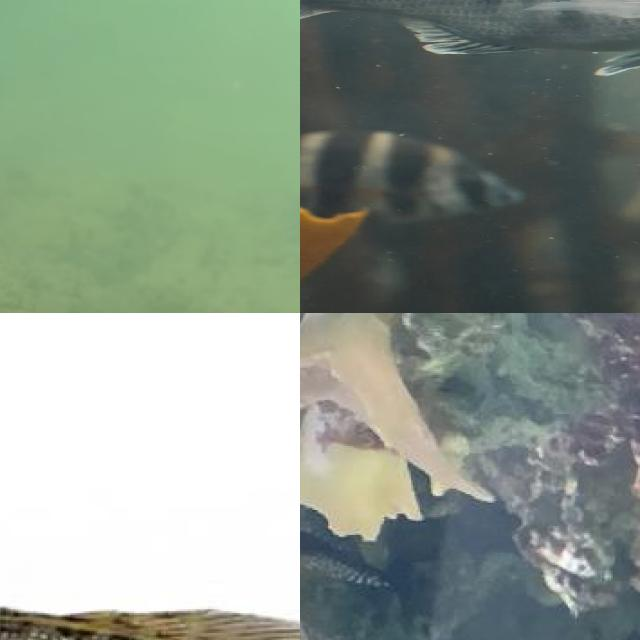fish: (300, 0, 640, 313), (0, 0, 300, 313), (0, 501, 300, 640)
